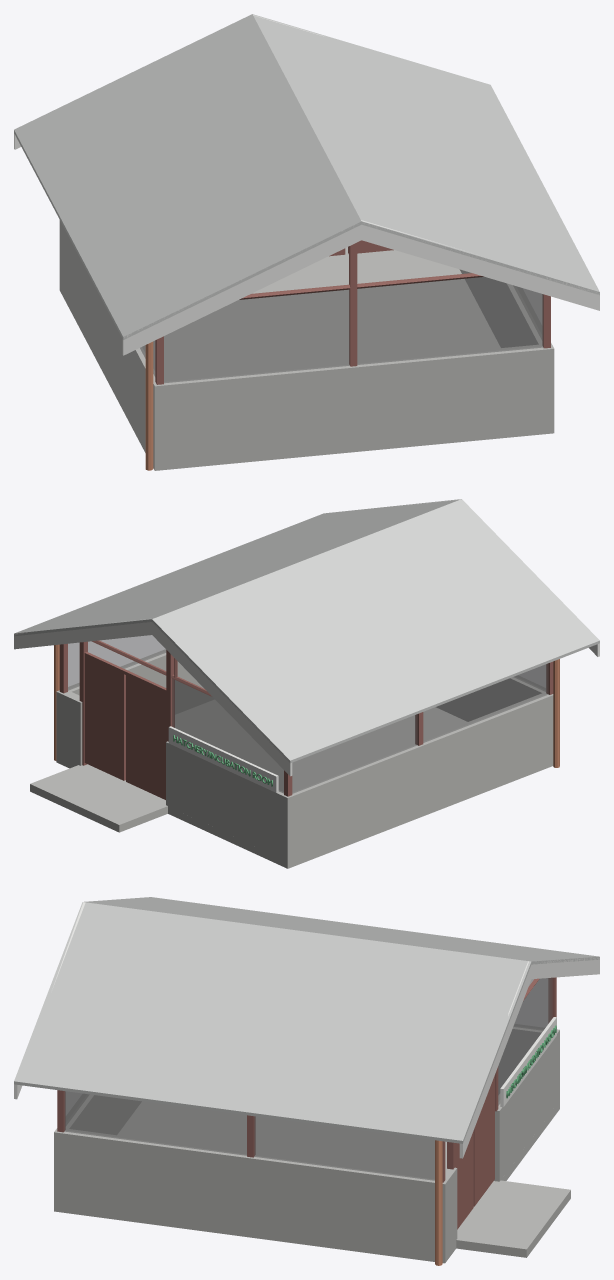
Rendered from rares_hatchery_area.glb.
The picture shows the model from 3 angles, top to bottom: view 1: azimuth 30°, elevation 25°; view 2: azimuth 150°, elevation 25°; view 3: azimuth 270°, elevation 25°; orthographic projection. The views are drawn at different scales.
Visible parts, largest first — view 1: Corrugated_Gable_Roof, Concrete_HalfWalls, Wire_Mesh_Panels, White_Gable_Fascia, Steel_Structure_Gate, PVC_Downspouts; view 2: Corrugated_Gable_Roof, Concrete_HalfWalls, Wire_Mesh_Panels, Steel_Structure_Gate, White_Gable_Fascia, Hatchery_Sign_Board, PVC_Downspouts, Hatchery_Sign_Text; view 3: Corrugated_Gable_Roof, Concrete_HalfWalls, Wire_Mesh_Panels, Steel_Structure_Gate, White_Gable_Fascia, Hatchery_Sign_Board, PVC_Downspouts.
Boxes of the visible parts, x1,y1,x2,y2 form: Corrugated_Gable_Roof: [14, 14, 599, 339]; Concrete_HalfWalls: [59, 220, 554, 470]; Wire_Mesh_Panels: [140, 277, 543, 383]; White_Gable_Fascia: [14, 15, 599, 355]; Steel_Structure_Gate: [155, 240, 550, 384]; PVC_Downspouts: [145, 341, 153, 470]; Corrugated_Gable_Roof: [14, 499, 599, 763]; Concrete_HalfWalls: [30, 649, 553, 868]; Wire_Mesh_Panels: [68, 635, 548, 793]; Steel_Structure_Gate: [59, 640, 553, 799]; White_Gable_Fascia: [14, 499, 599, 776]; Hatchery_Sign_Board: [168, 726, 278, 792]; PVC_Downspouts: [54, 644, 559, 767]; Hatchery_Sign_Text: [173, 735, 272, 786]; Corrugated_Gable_Roof: [14, 897, 599, 1143]; Concrete_HalfWalls: [54, 1024, 570, 1263]; Wire_Mesh_Panels: [64, 978, 552, 1180]; Steel_Structure_Gate: [57, 977, 556, 1229]; White_Gable_Fascia: [14, 902, 599, 1158]; Hatchery_Sign_Board: [500, 1017, 556, 1107]; PVC_Downspouts: [435, 1140, 442, 1265].
Size of the model in its own units: 8.59 by 3.75 by 8.72.
